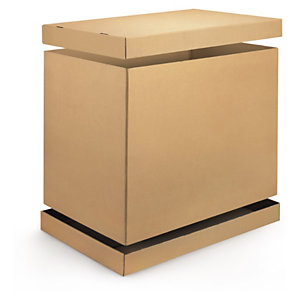Rec_Paper: (28, 11, 293, 278)
